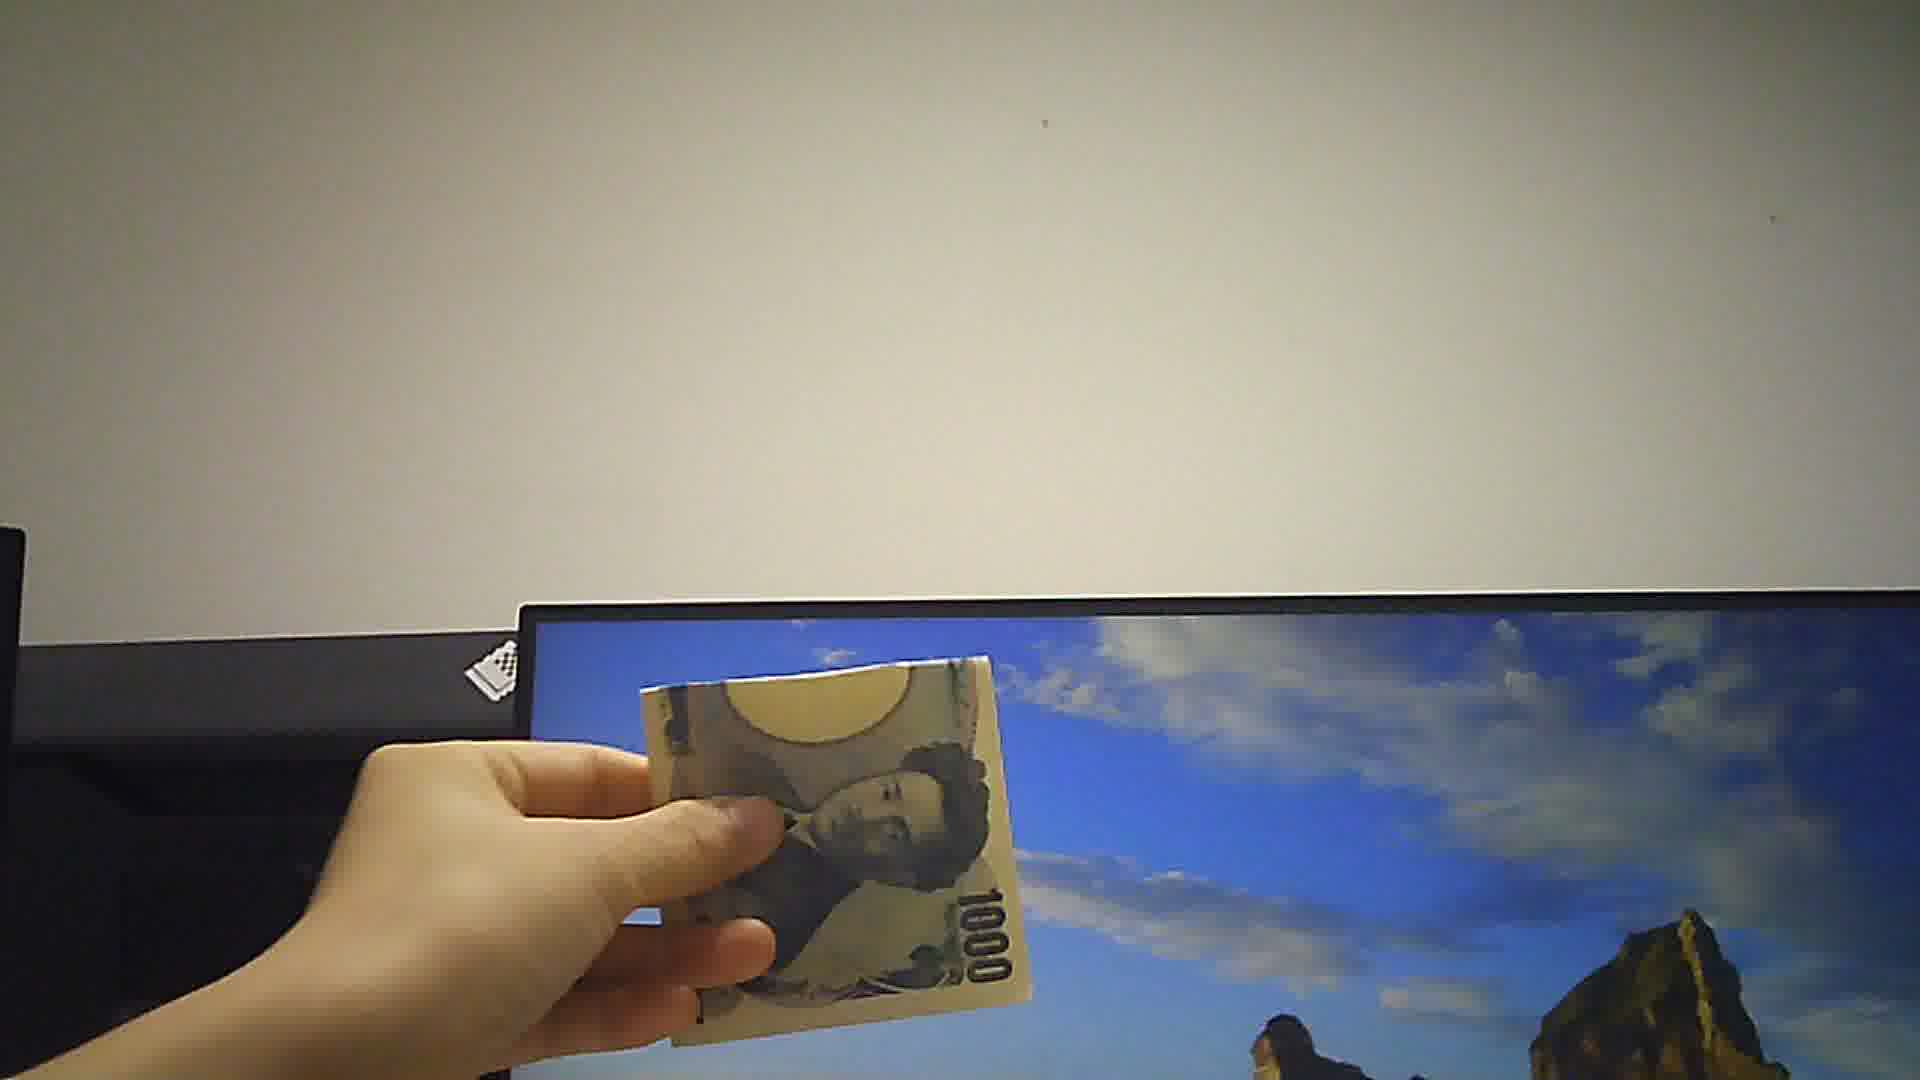1,000 Yen: (633, 647, 1036, 1027)
